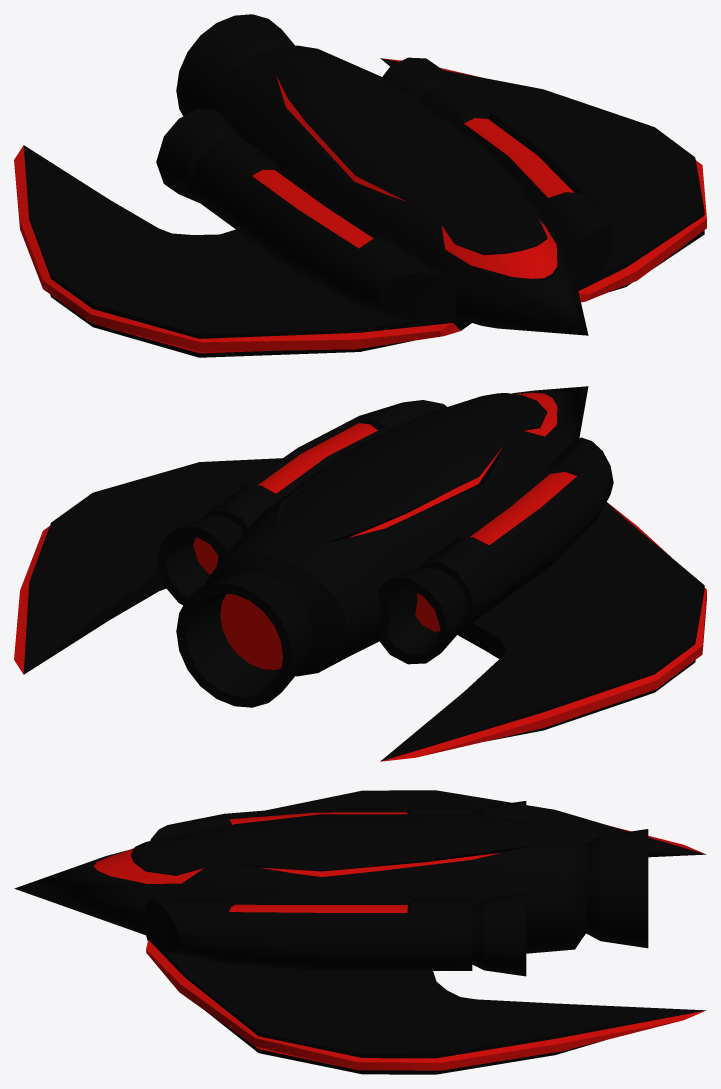
The model's file is Bloaty_Idle.dae.
3 renders of one model, top to bottom at view 1: azimuth 30°, elevation 25°; view 2: azimuth 150°, elevation 25°; view 3: azimuth 270°, elevation 25°, orthographic. The views are drawn at different scales.
Visible parts, largest first — view 1: bloaty__highSpeed; view 2: bloaty__highSpeed; view 3: bloaty__highSpeed.
Boxes of the visible parts, x1,y1,x2,y2 form: bloaty__highSpeed: (14,14,706,357); bloaty__highSpeed: (14,386,706,761); bloaty__highSpeed: (14,790,706,1074).
Bounding box in the file's own units: 4.42 × 0.978 × 4.82.
